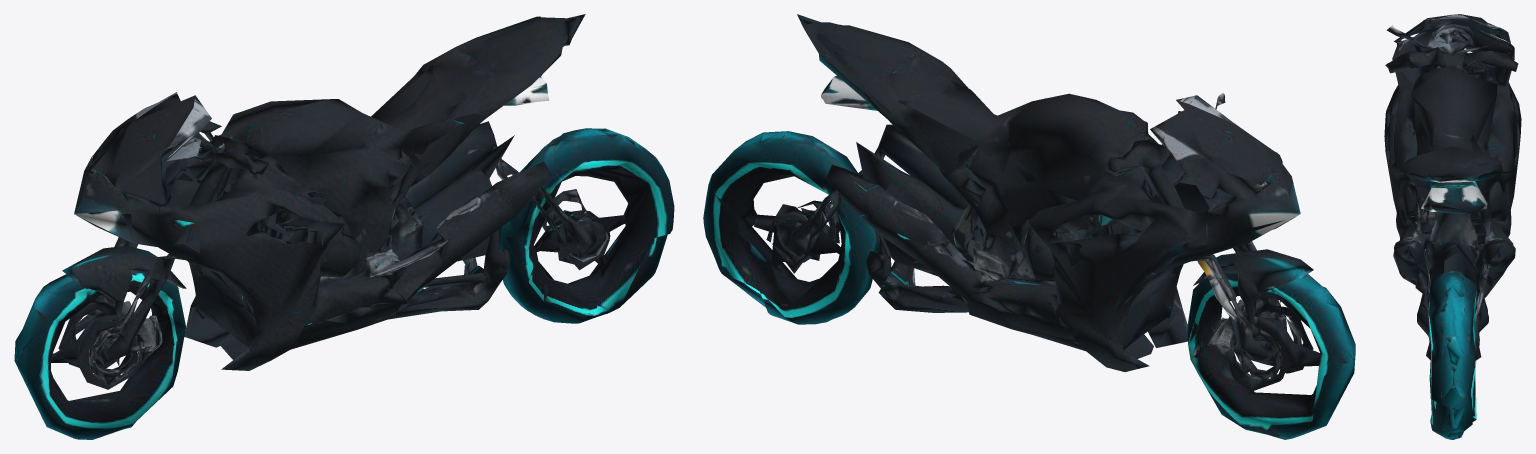
Rendered from bsBike.7f27adb8.glb.
3 renders of one model, left to right at view 1: azimuth 30°, elevation 25°; view 2: azimuth 150°, elevation 25°; view 3: azimuth 270°, elevation 25°, orthographic. The views are drawn at different scales.
Bounding box in the file's own units: 1.9 × 0.8817 × 0.4179.
Materials: 1 (1 with a texture image).
